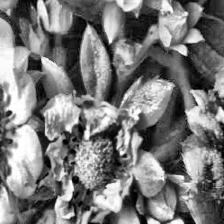Blossom Blight: (61, 113, 132, 210), (0, 80, 15, 189)
